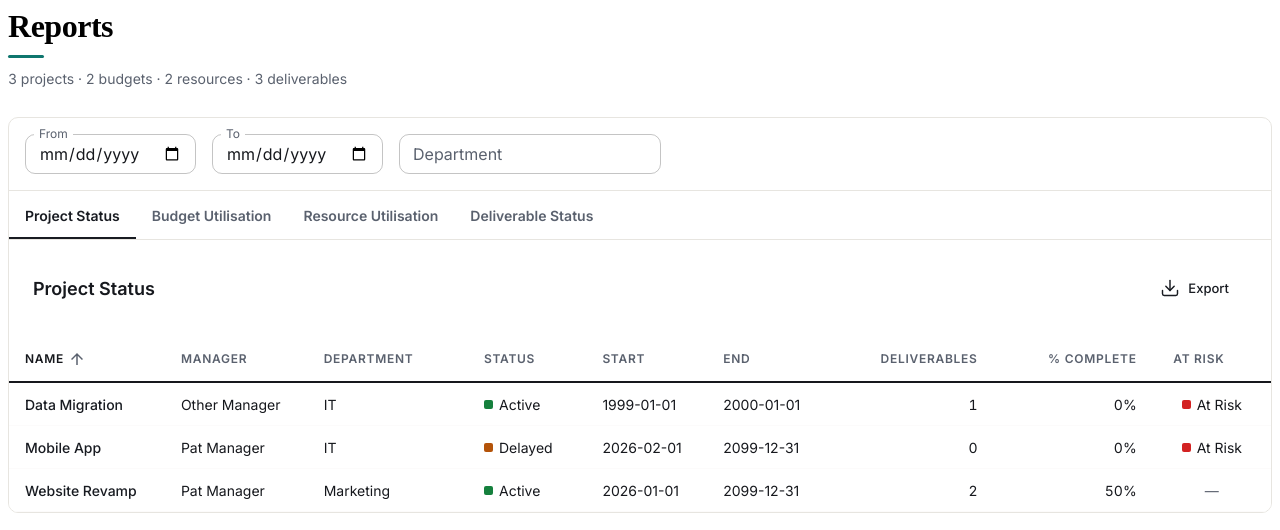
Scenario: Reports page › deliverable status report › joins the project name and flags incomplete deliverables past their due date
Expected: the link "Website Revamp" is shown, [25,482,137,499]
Click the tab "Deliverable Status" at (532, 215), box [454,191,609,239]
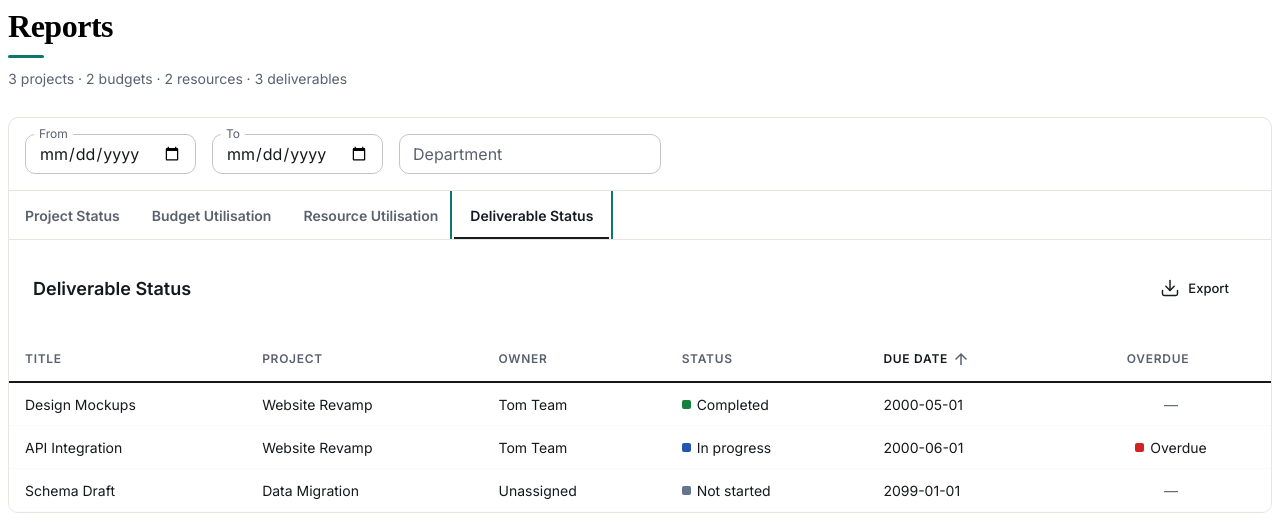
Expected: the text "Tom Team" in the row of "API Integration" is shown, [498,439,567,456]
Expected: the text "2000-06-01" is shown, [867,426,1071,469]
Expected: the text "Overdue" is shown, [1150,437,1207,458]
